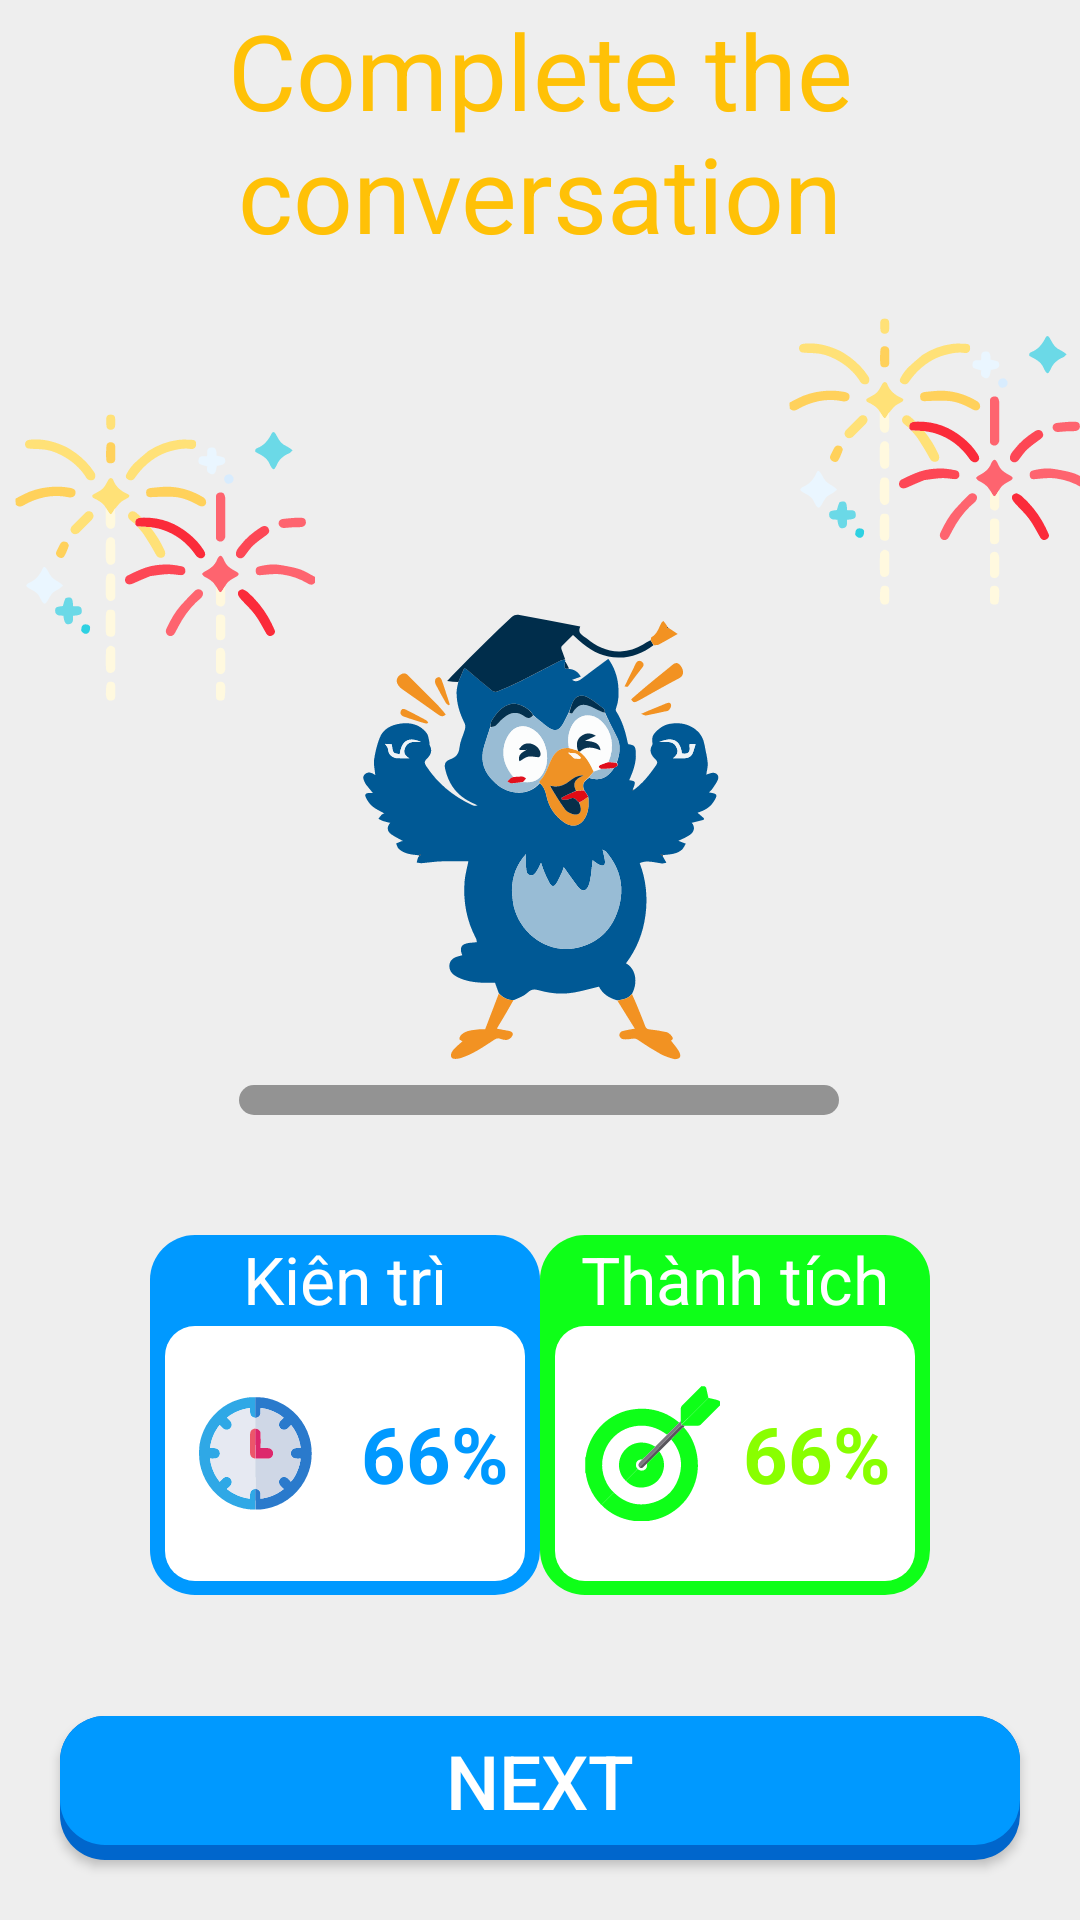

Screen size 1080 x 1920. Icon name, then its center in pixels as point (x, y):
fire work: point (934, 429), point (165, 525)
